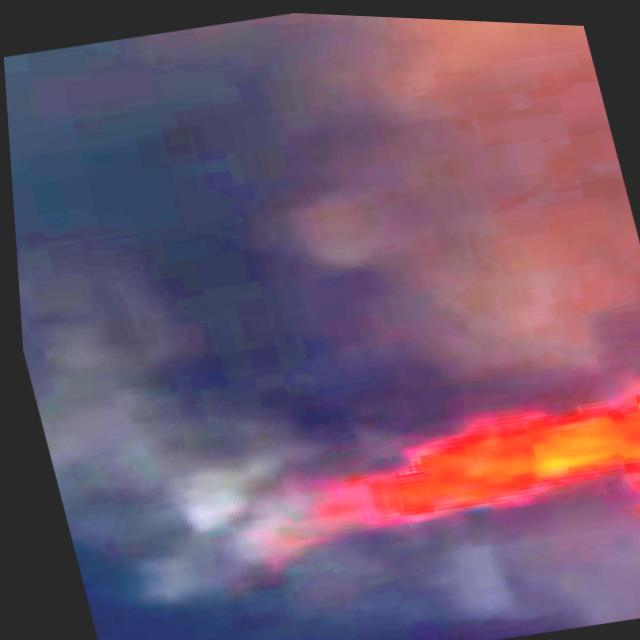fire: (241, 288, 640, 620)
smoke: (1, 25, 316, 640)
